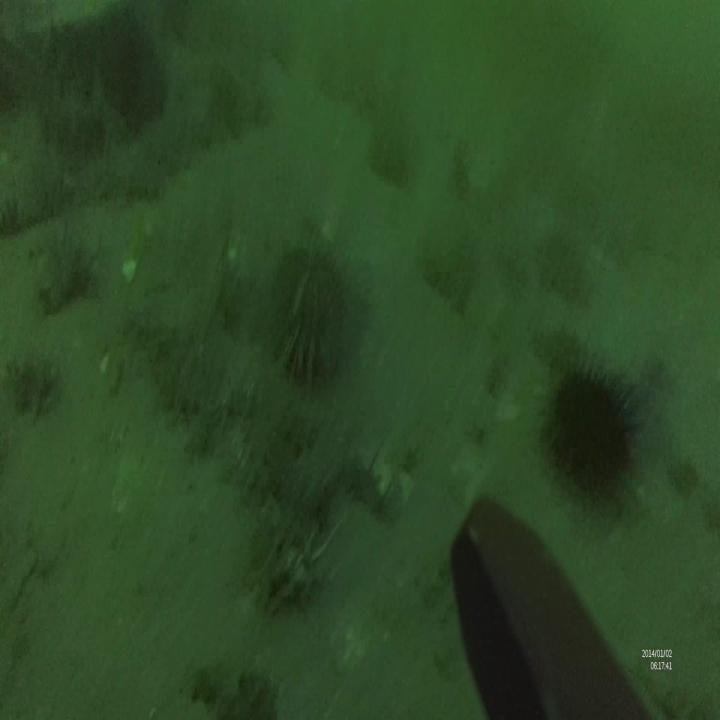echinus: (541, 358, 641, 518)
